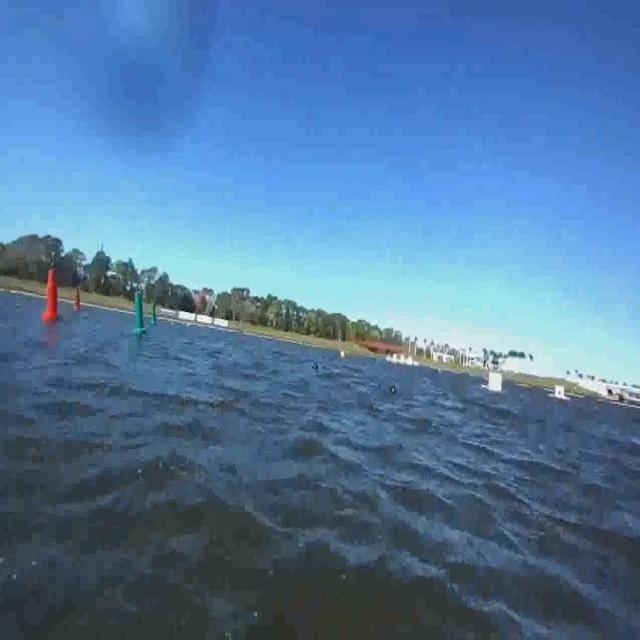black-buoy: (312, 362, 319, 372), (391, 385, 396, 393)
green-column-buoy: (134, 296, 148, 338), (150, 299, 158, 326)
red-column-buoy: (45, 268, 62, 321), (74, 288, 82, 312)
yellow-buoy: (340, 348, 347, 361)
